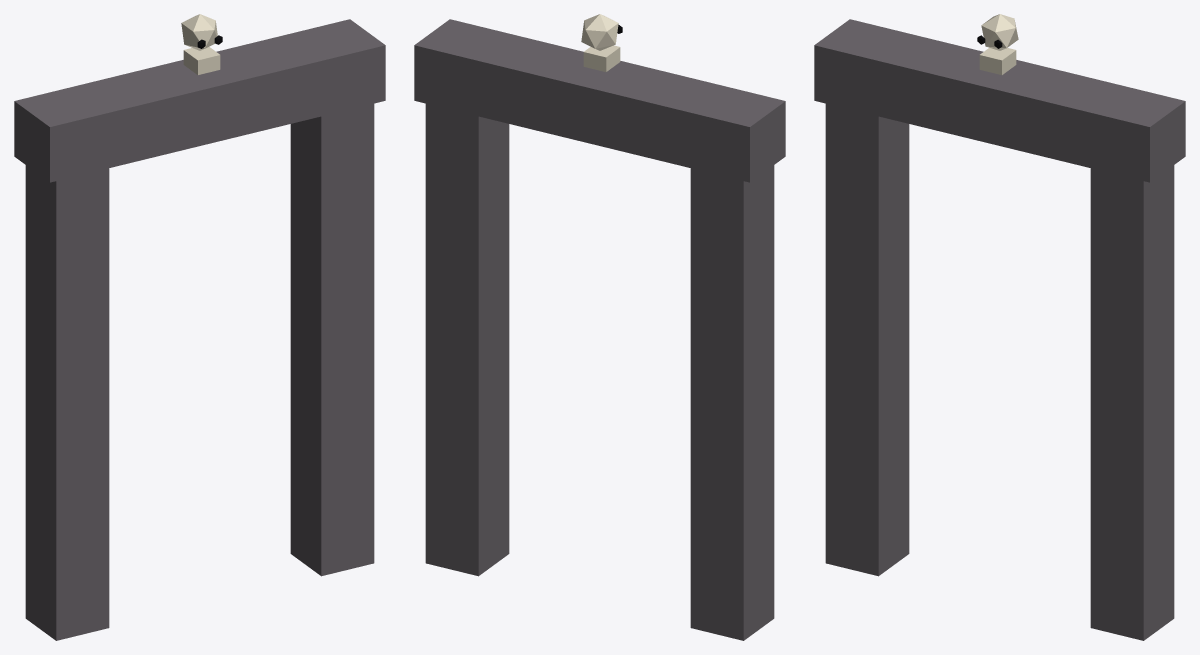
The model's file is Bld_OR_SkullArch_04.glb.
The picture shows the model from 3 angles, left to right: view 1: azimuth 30°, elevation 25°; view 2: azimuth 150°, elevation 25°; view 3: azimuth 330°, elevation 25°; orthographic projection.
Parts seen in each view (by area): view 1: Bld_OR_SkullArch_04; view 2: Bld_OR_SkullArch_04; view 3: Bld_OR_SkullArch_04.
Boxes of the visible parts, <box> form: Bld_OR_SkullArch_04: <box>14,14,385,640</box>; Bld_OR_SkullArch_04: <box>414,14,785,640</box>; Bld_OR_SkullArch_04: <box>814,14,1185,640</box>.
Size of the model in its own units: 3.8 by 6.24 by 0.7.
